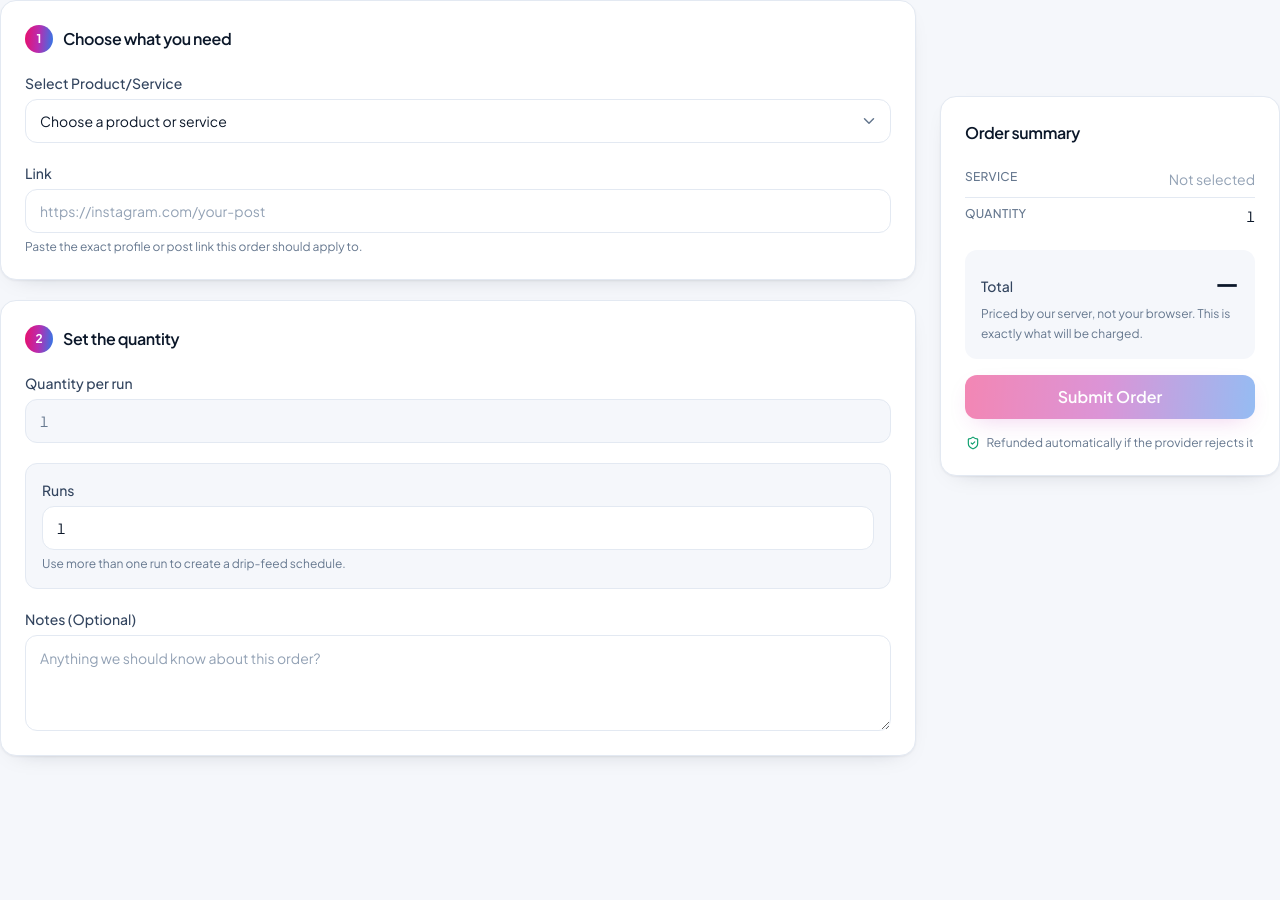
Test case: OrderForm › does not block ordering while the wallet balance is still unknown
Select "Followers (Rate: ₹125 per 1000)" in the dropdown labelled "Select Product/Service" at x=458, y=121, box x1=25 y1=99 x2=891 y2=143
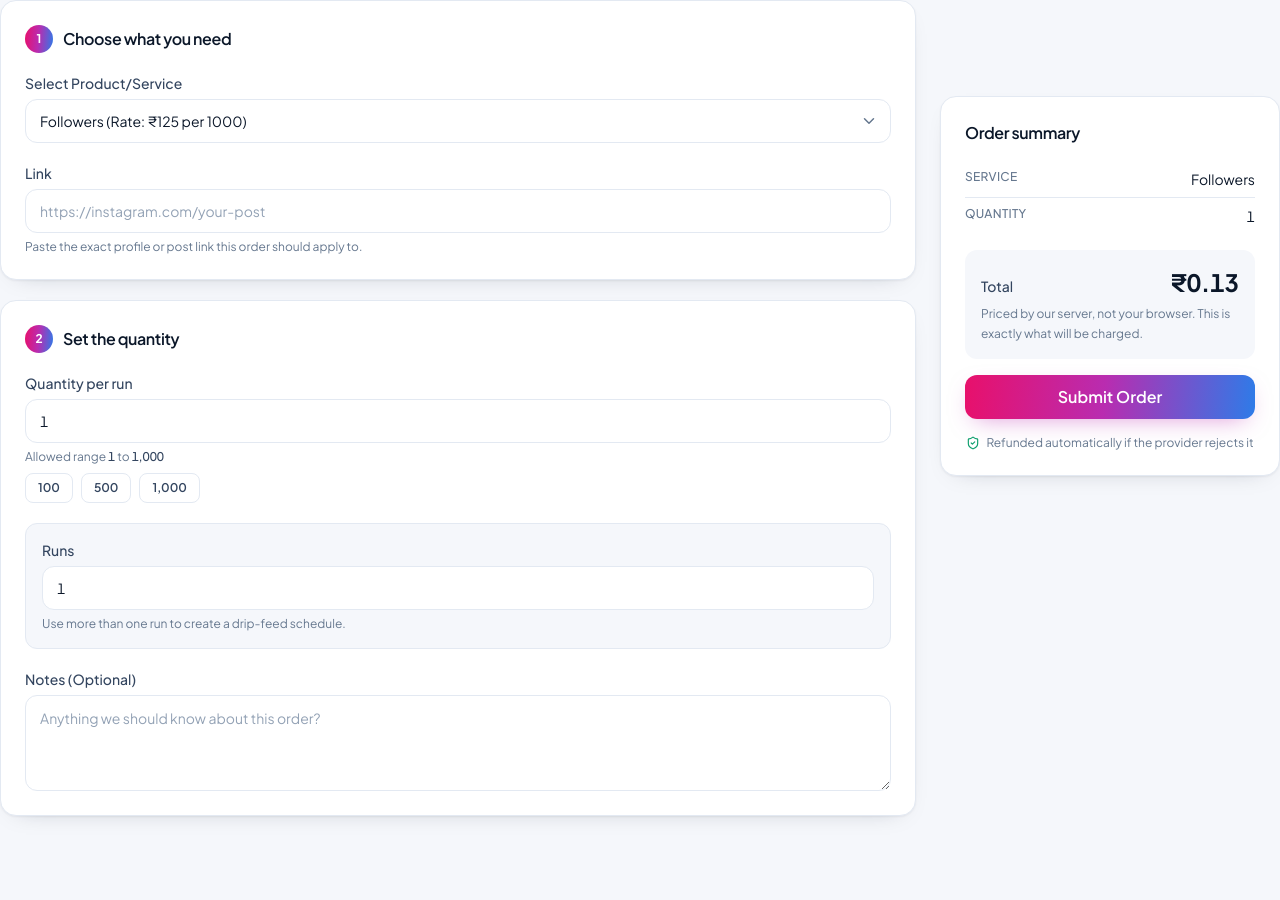
Check: the button "Submit Order" is enabled, box x1=965 y1=375 x2=1255 y2=419
